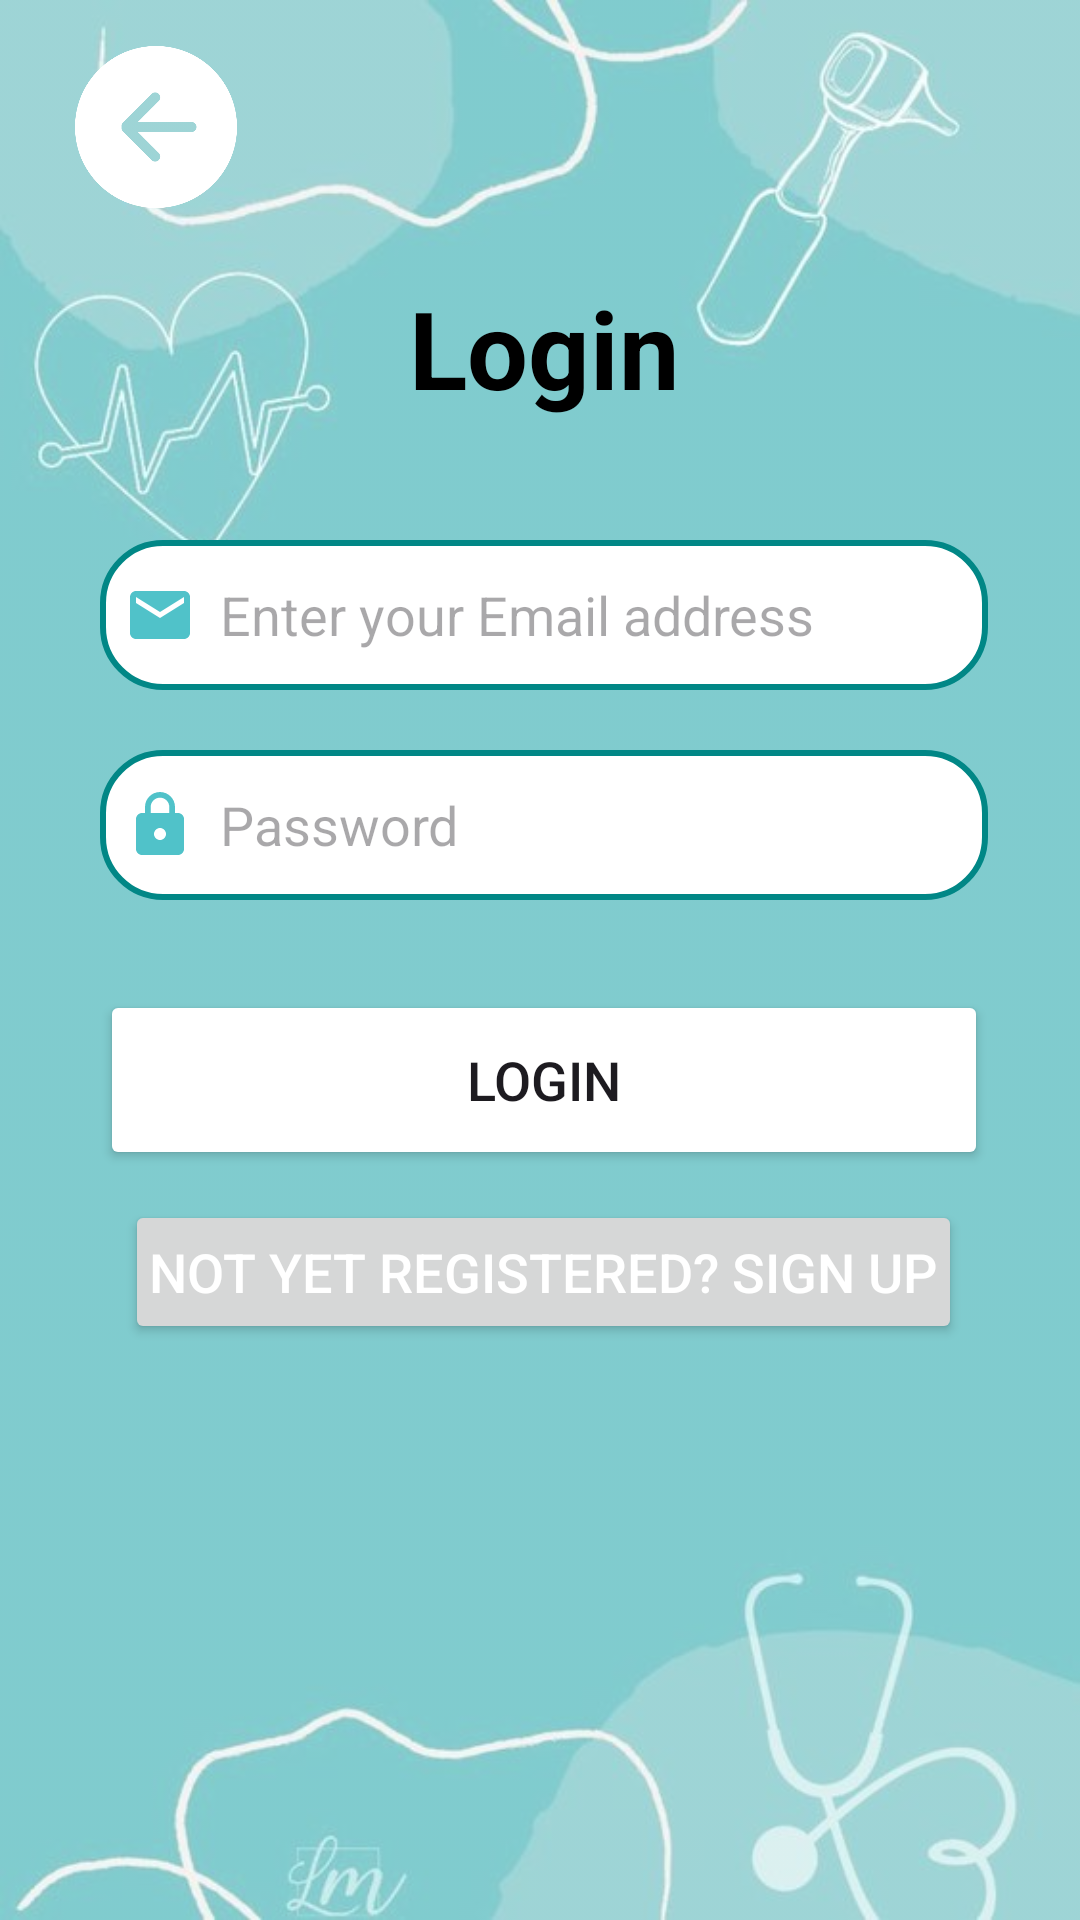

Point at icon controls on the screen. Image size 1080×1920, points as point (x, y).
back arrow: point (159, 127)
